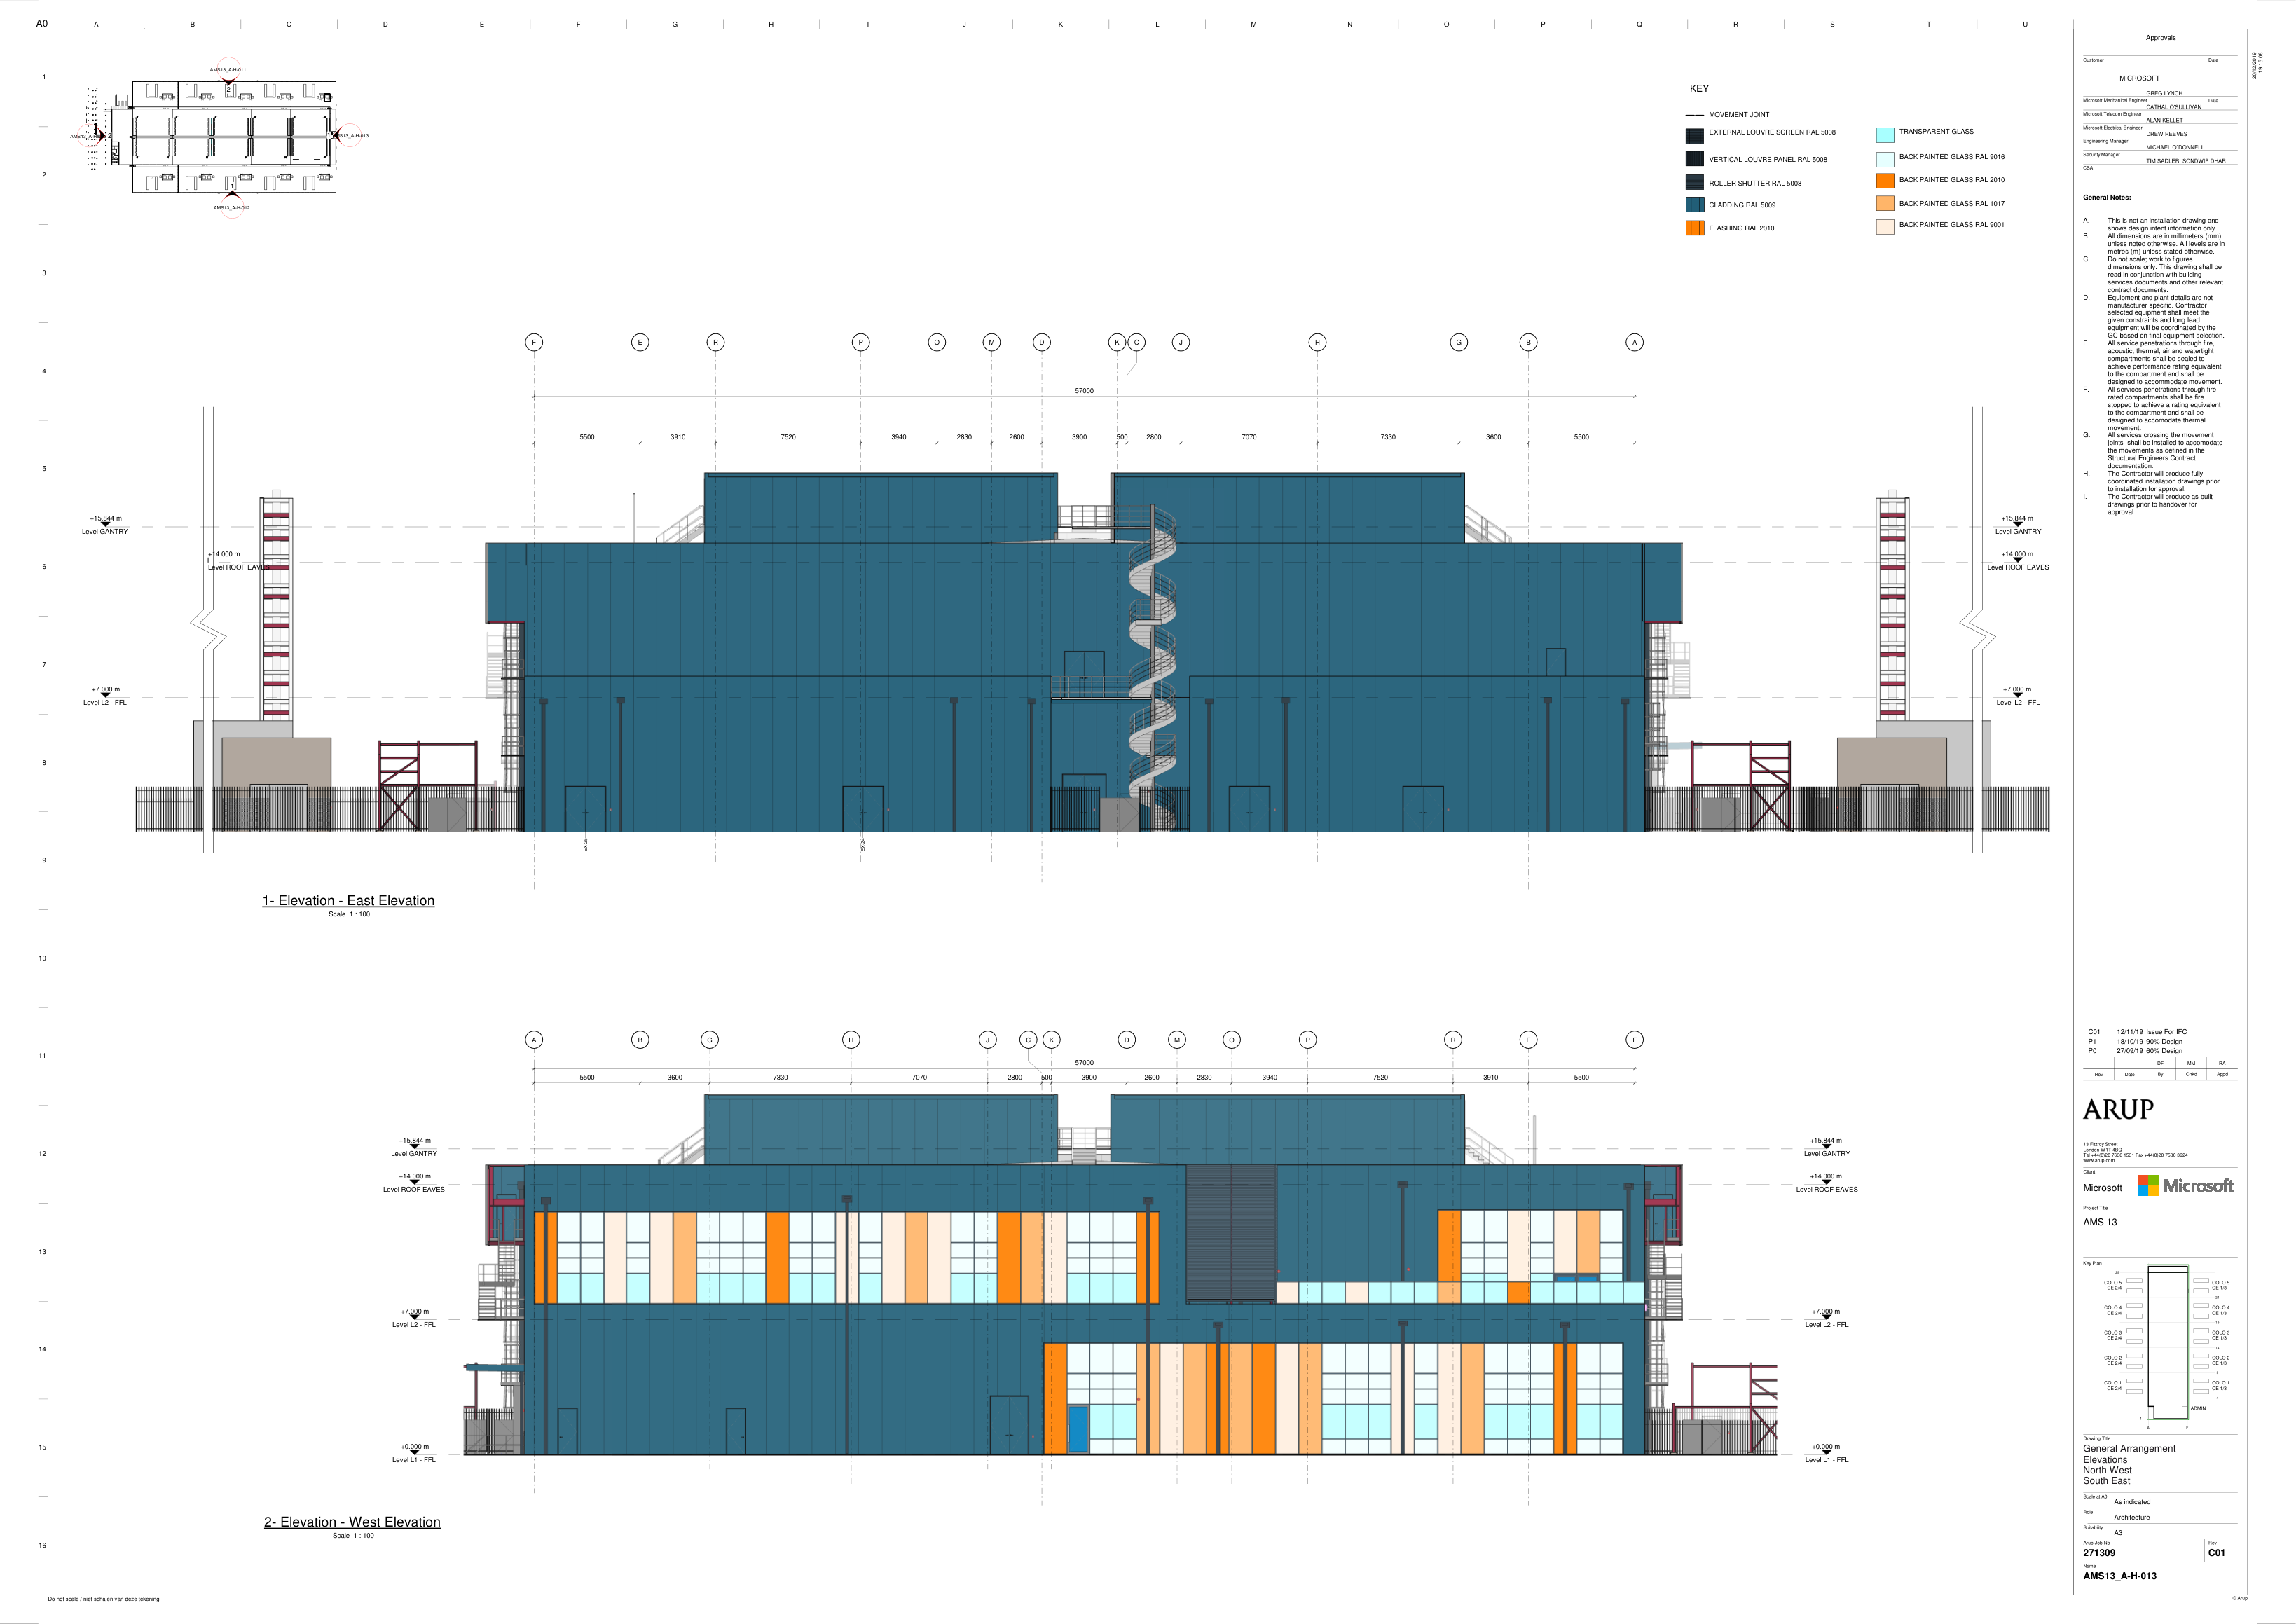Legend: (1682, 81, 2008, 239)
